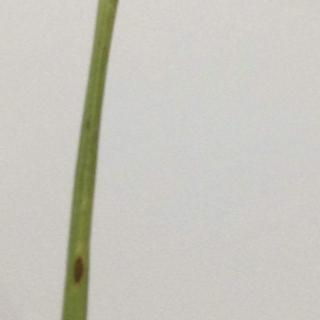Blast: (66, 226, 93, 299)
